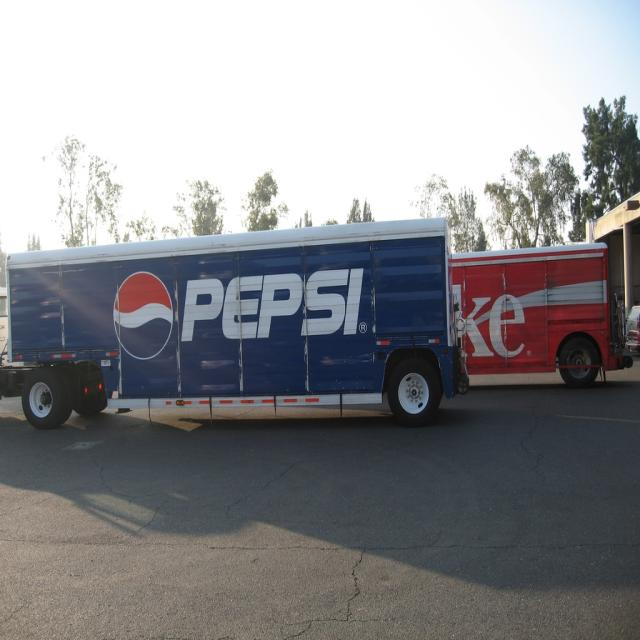pepsi: (112, 273, 175, 364)
